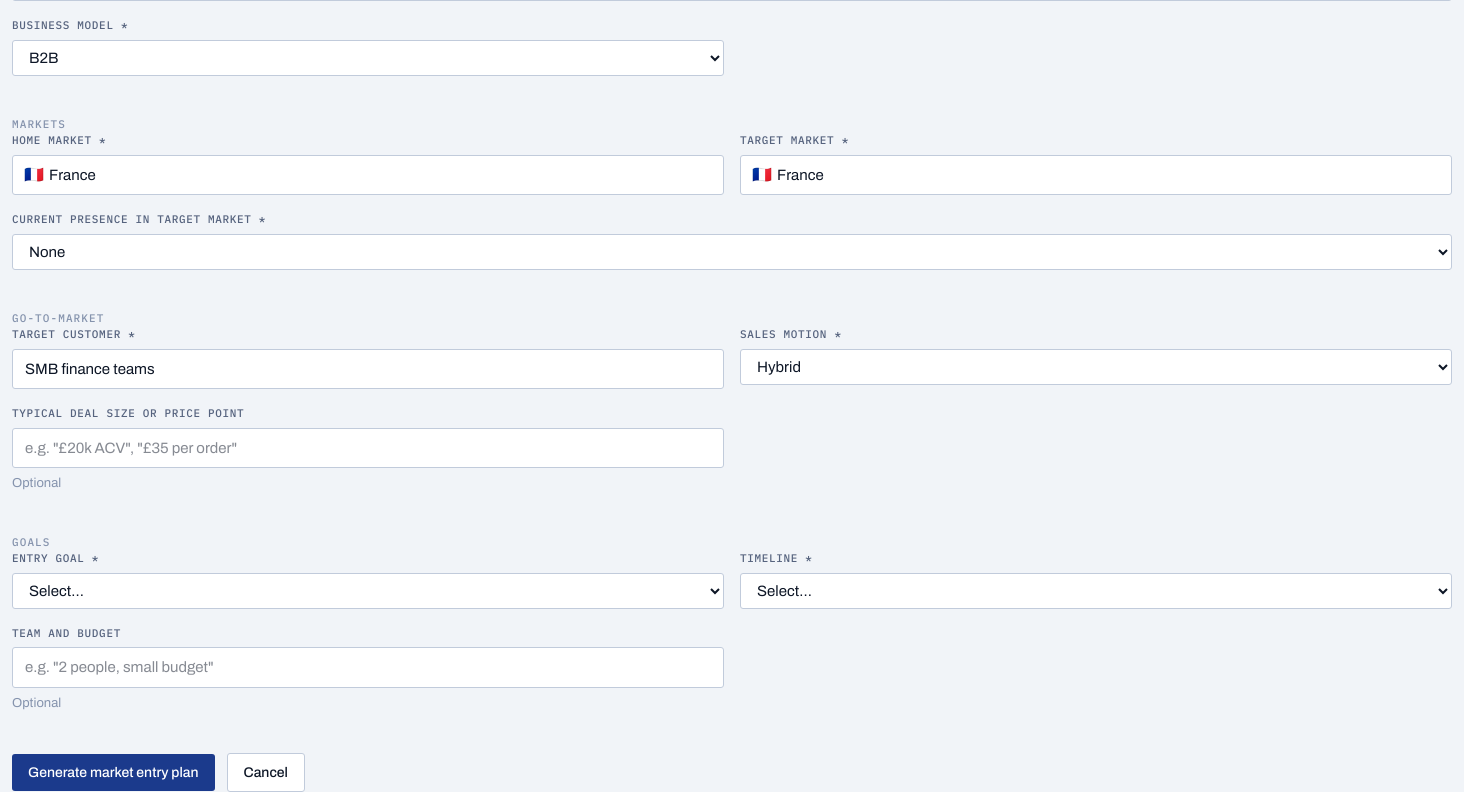
NewLaunchForm › shows the exact FR-12 error when target market matches home market
This screenshot has width=1464, height=792.
Earlier steps of the test are not shown.
(page scrolled)
Select "Soft launch" in the dropdown labelled "Entry goal *" at (368, 590), box [12,572,724,608]
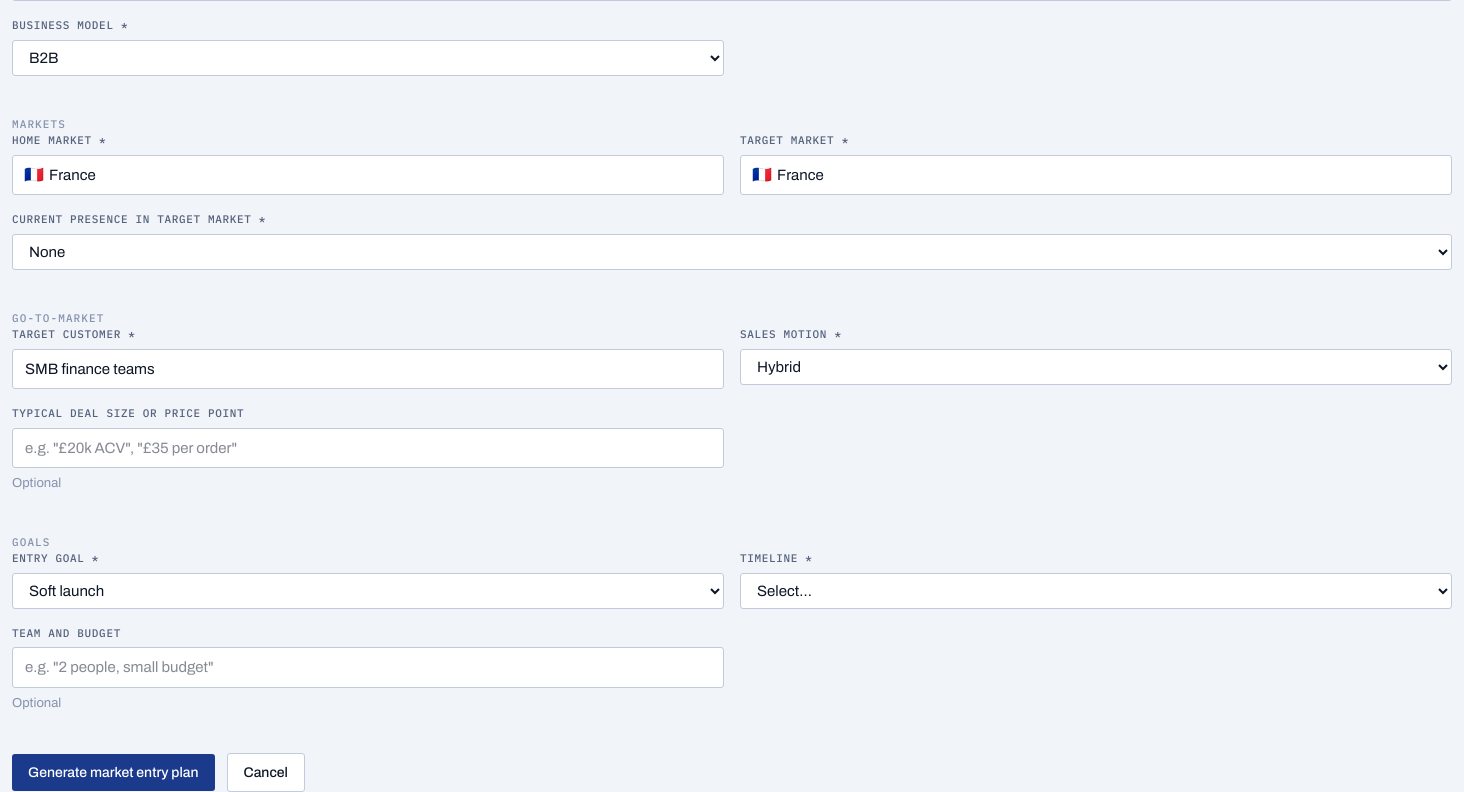
Select "6 months" in the dropdown labelled "Timeline *" at (1096, 590), box [740,572,1452,608]
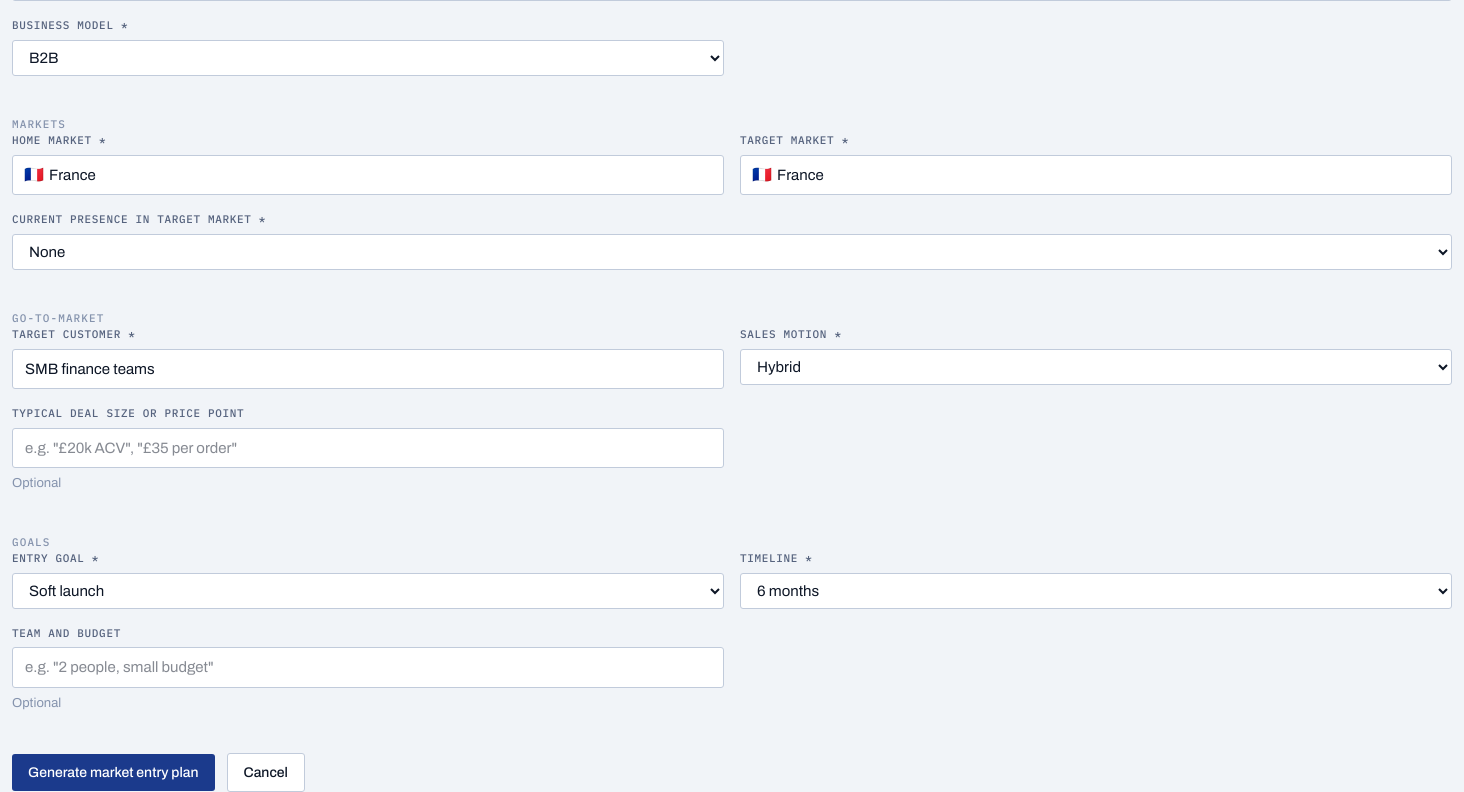
Click the button "Generate market entry plan" at (113, 772), box [12,754,214,791]
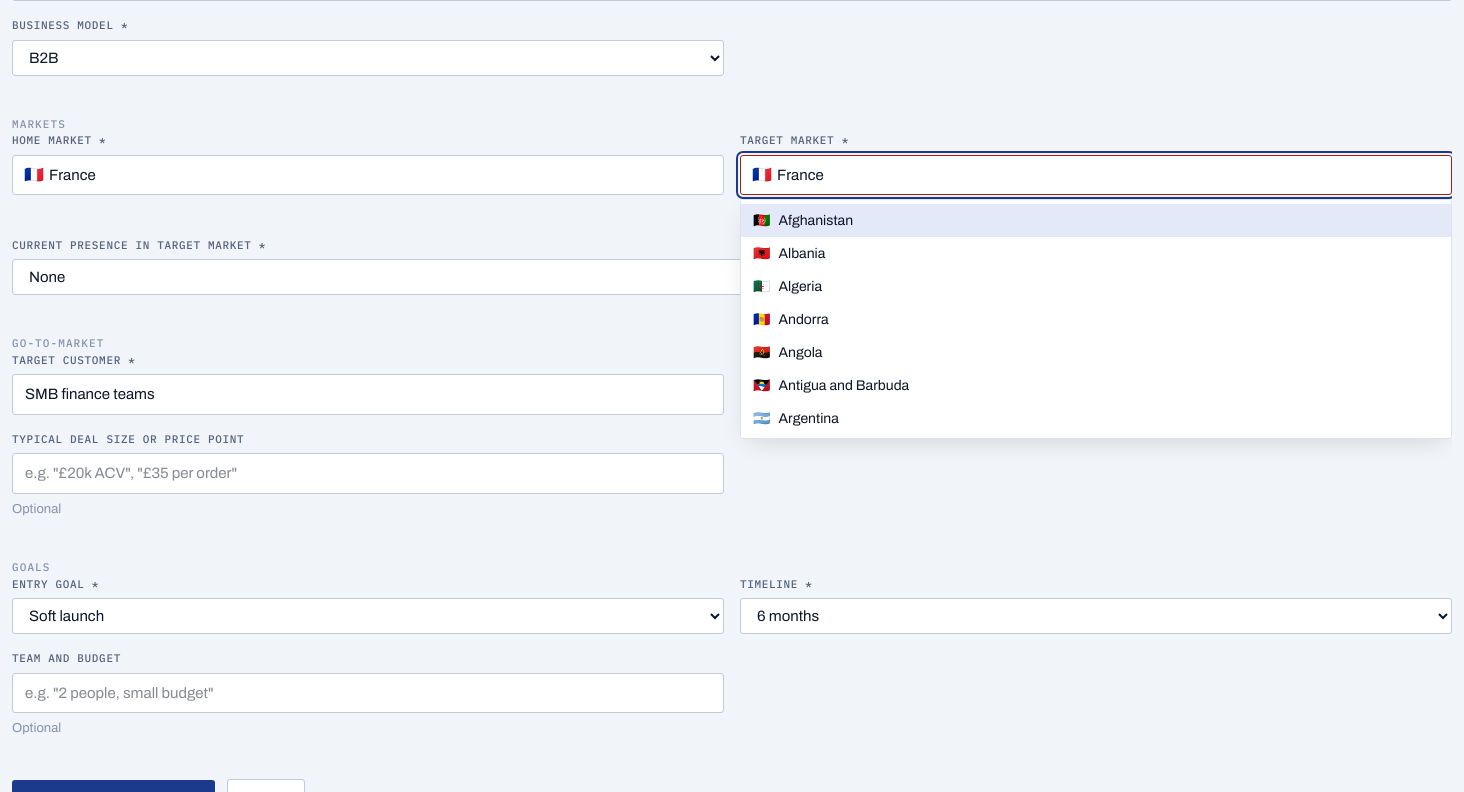
Expected: the text "Target market must be different from home market." is shown, [740,203,1028,217]
